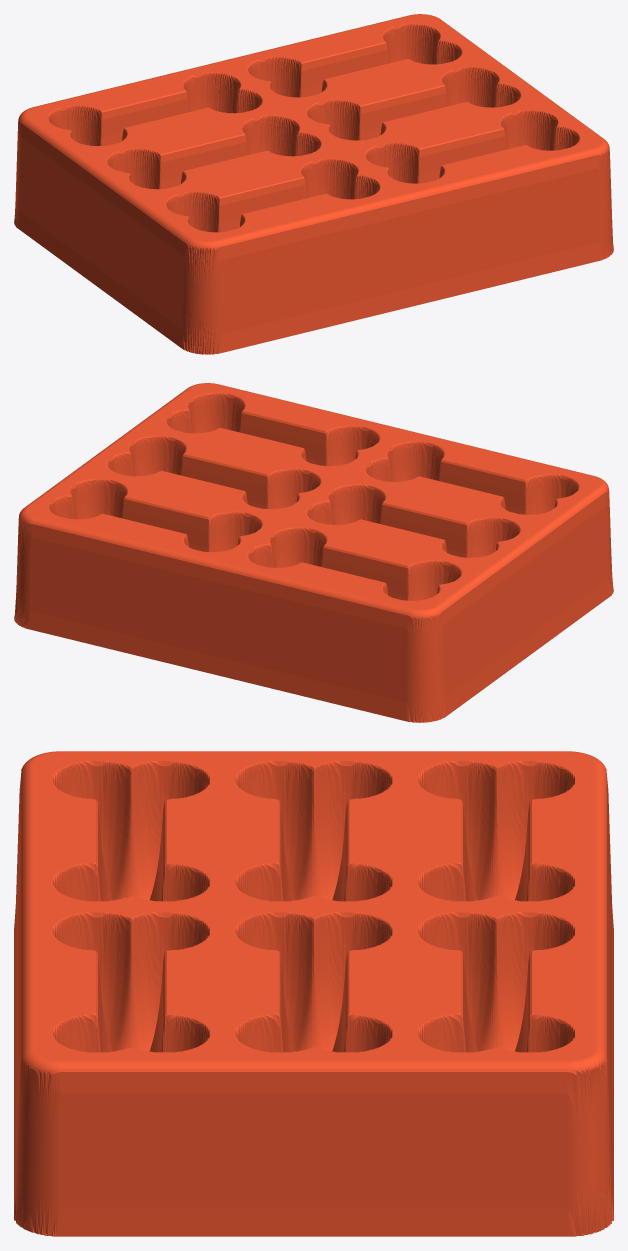
File: mold.glb
3 views of the same model, one above another, from view 1: azimuth 30°, elevation 25°; view 2: azimuth 150°, elevation 25°; view 3: azimuth 270°, elevation 25° (orthographic). The views are drawn at different scales.
Visible parts, largest first — view 1: geometry_0; view 2: geometry_0; view 3: geometry_0.
Part boxes in pixels (x1=…): geometry_0: x1=14, y1=14, x2=613, y2=354; geometry_0: x1=14, y1=383, x2=613, y2=722; geometry_0: x1=14, y1=751, x2=613, y2=1236.
Size of the model in its own units: 0.1492 by 0.036 by 0.1166.
